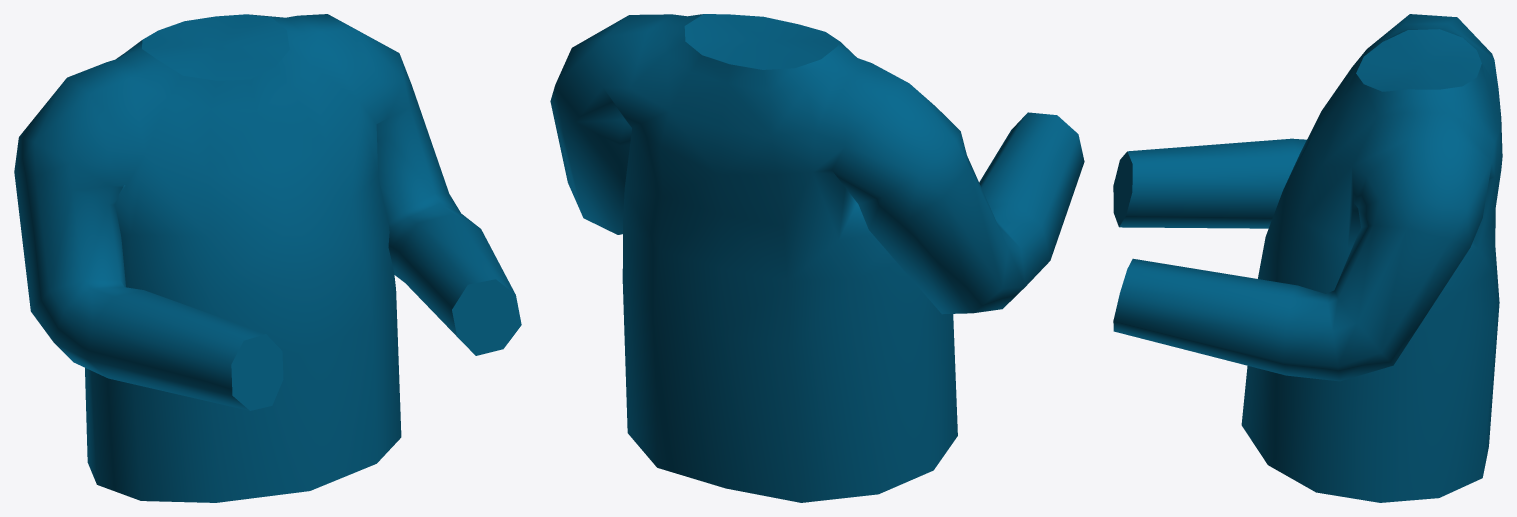
The model's file is Racer_Jacket_01.fbx.
The picture shows the model from 3 angles, left to right: view 1: azimuth 30°, elevation 25°; view 2: azimuth 150°, elevation 25°; view 3: azimuth 270°, elevation 25°; orthographic projection. The views are drawn at different scales.
Visible parts, largest first — view 1: Racer_Jacket_01; view 2: Racer_Jacket_01; view 3: Racer_Jacket_01.
Part boxes in pixels (x1,y1,x2,y2): Racer_Jacket_01: (14, 14, 521, 502); Racer_Jacket_01: (550, 14, 1084, 502); Racer_Jacket_01: (1113, 14, 1502, 502).
Size of the model in its own units: 55.42 by 47.28 by 51.92.
